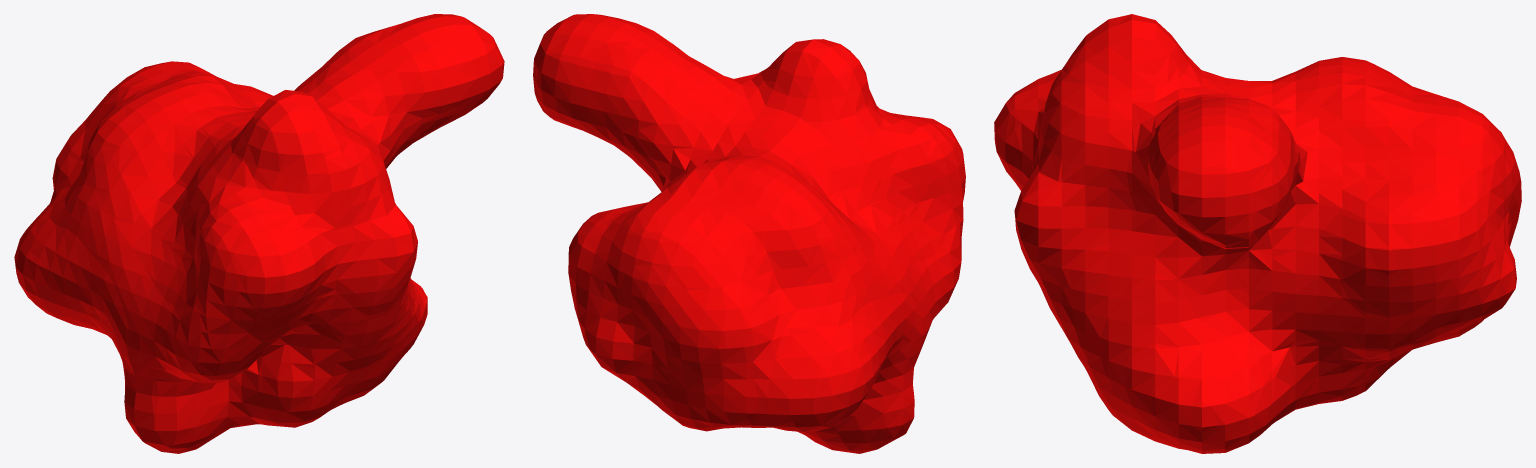
The model's file is rsxG_coarse.dae.
The picture shows the model from 3 angles, left to right: view 1: azimuth 30°, elevation 25°; view 2: azimuth 150°, elevation 25°; view 3: azimuth 270°, elevation 25°; orthographic projection. The views are drawn at different scales.
Parts seen in each view (by area): view 1: rsxG; view 2: rsxG; view 3: rsxG.
Boxes of the visible parts, bbox=[...] form: rsxG: bbox=[14, 14, 504, 453]; rsxG: bbox=[533, 14, 965, 453]; rsxG: bbox=[994, 14, 1521, 453].
Bounding box in the file's own units: 48.43 × 42.67 × 47.8.
